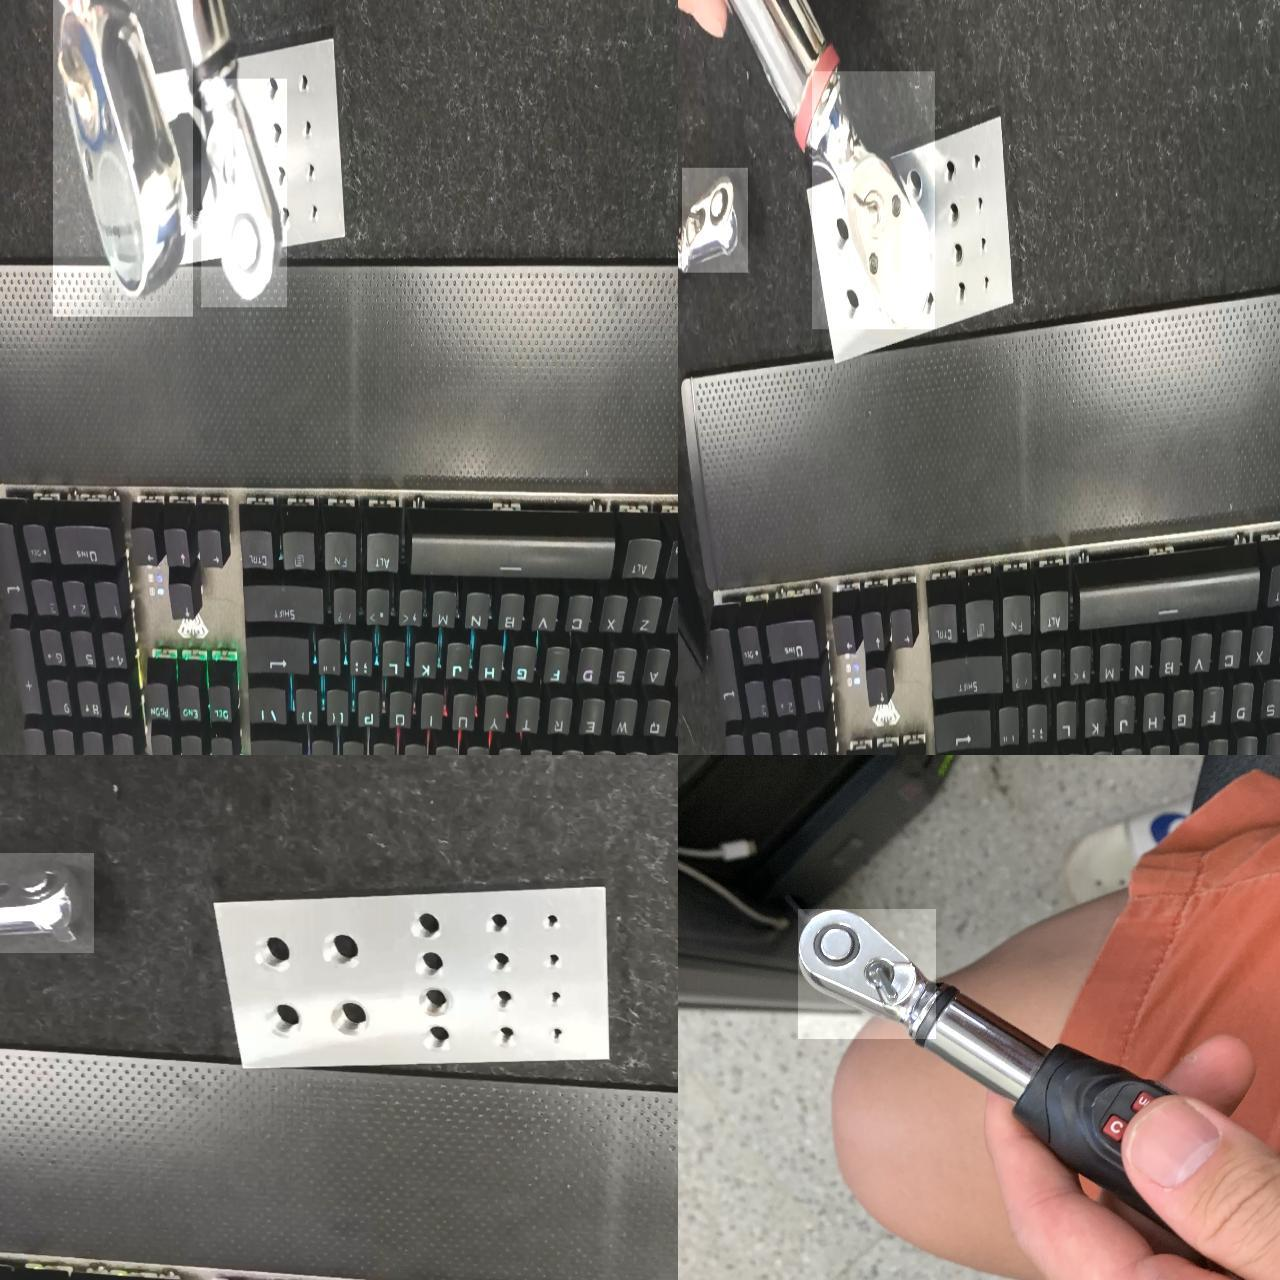Tool: (53, 0, 193, 316), (811, 72, 934, 329), (200, 79, 287, 307), (798, 908, 937, 1039), (0, 853, 94, 953), (681, 168, 748, 272)
